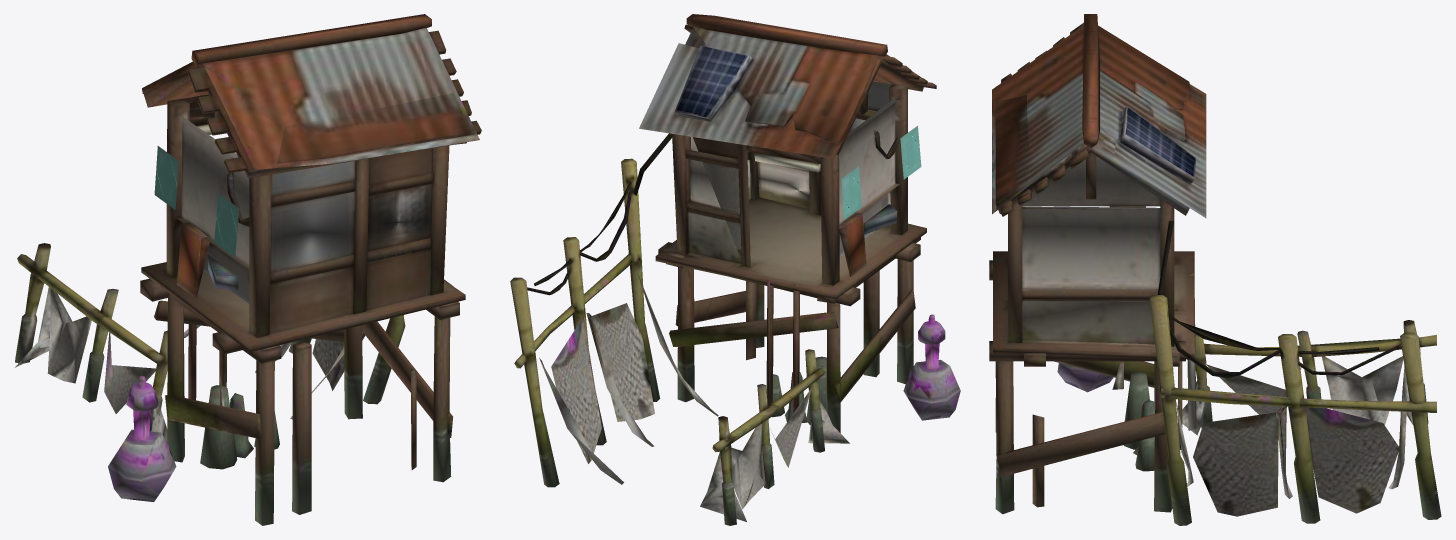
The model's file is fish_stakes.glb.
3 renders of one model, left to right at view 1: azimuth 30°, elevation 25°; view 2: azimuth 150°, elevation 25°; view 3: azimuth 270°, elevation 25°, orthographic. The views are drawn at different scales.
Visible parts, largest first — view 1: Body; view 2: Body; view 3: Body.
Part boxes in pixels (box(x1,y1,x2,y2)): Body: box(15, 14, 481, 525); Body: box(510, 14, 960, 525); Body: box(989, 14, 1441, 525).
Bounding box in the file's own units: 8.49 × 9.92 × 10.
1 material, 1 textured.
